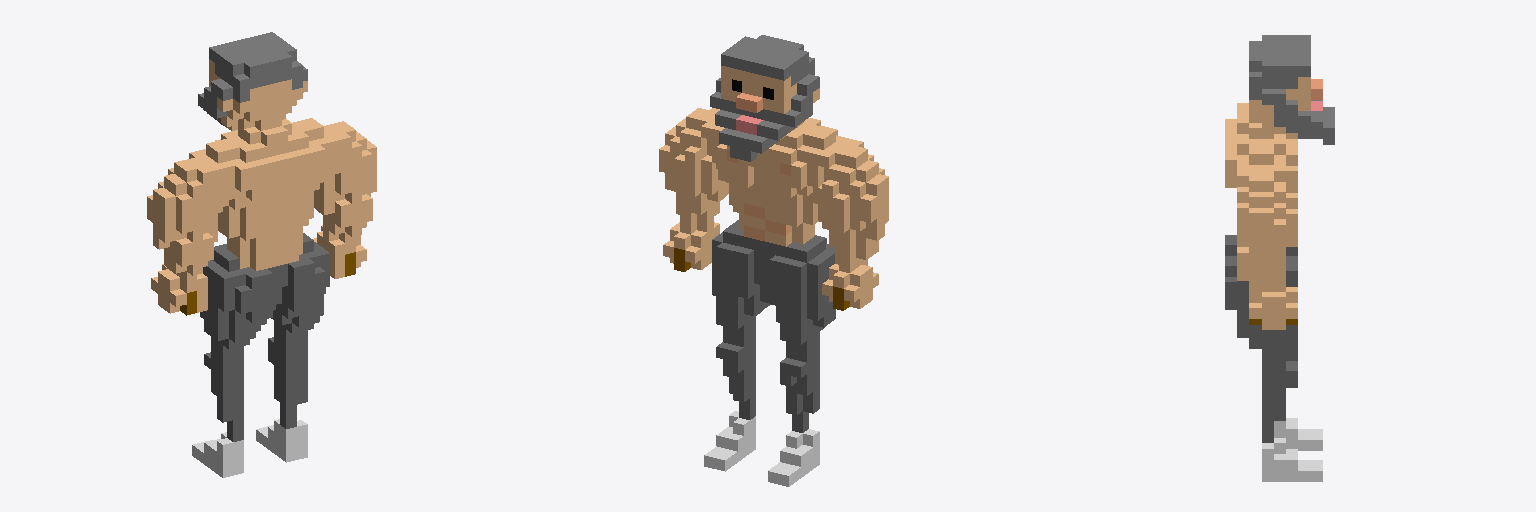
The picture shows the model from 3 angles: view 1: azimuth 30°, elevation 25°; view 2: azimuth 150°, elevation 25°; view 3: azimuth 270°, elevation 25°; orthographic projection.
Visible parts, largest first — view 1: object 1; view 2: object 1; view 3: object 1.
Part boxes in pixels (left/top/right/bottom): object 1: left=147, top=32, right=376, bottom=477; object 1: left=659, top=35, right=888, bottom=486; object 1: left=1225, top=35, right=1334, bottom=481.
Bounding box in the file's own units: 2 × 3.7 × 0.9.
1 materials, 1 textured.